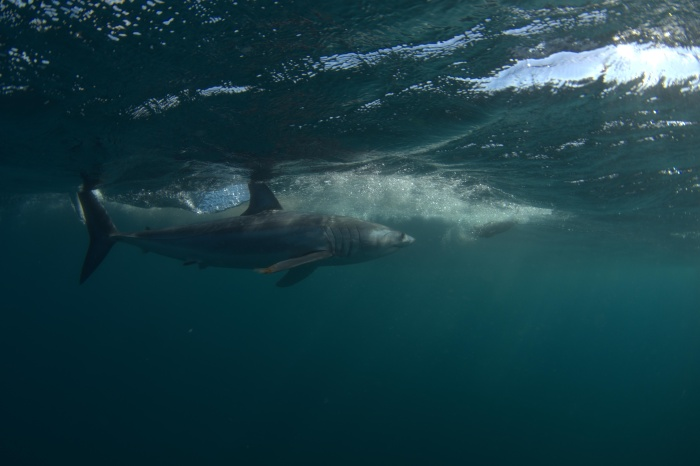Mako: (66, 168, 422, 301)
